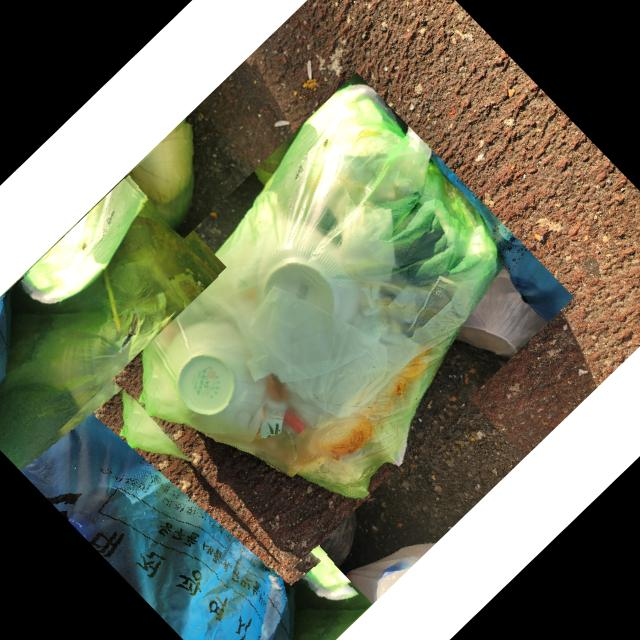general_trashbag: (138, 87, 501, 497), (0, 333, 290, 640), (0, 204, 212, 466), (124, 120, 193, 228)
other_trashbag: (271, 455, 355, 567)
